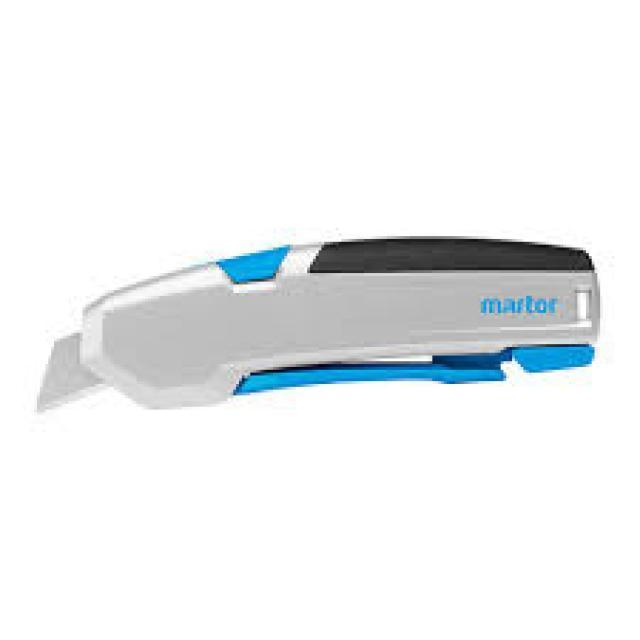cutter: (32, 225, 608, 446)
